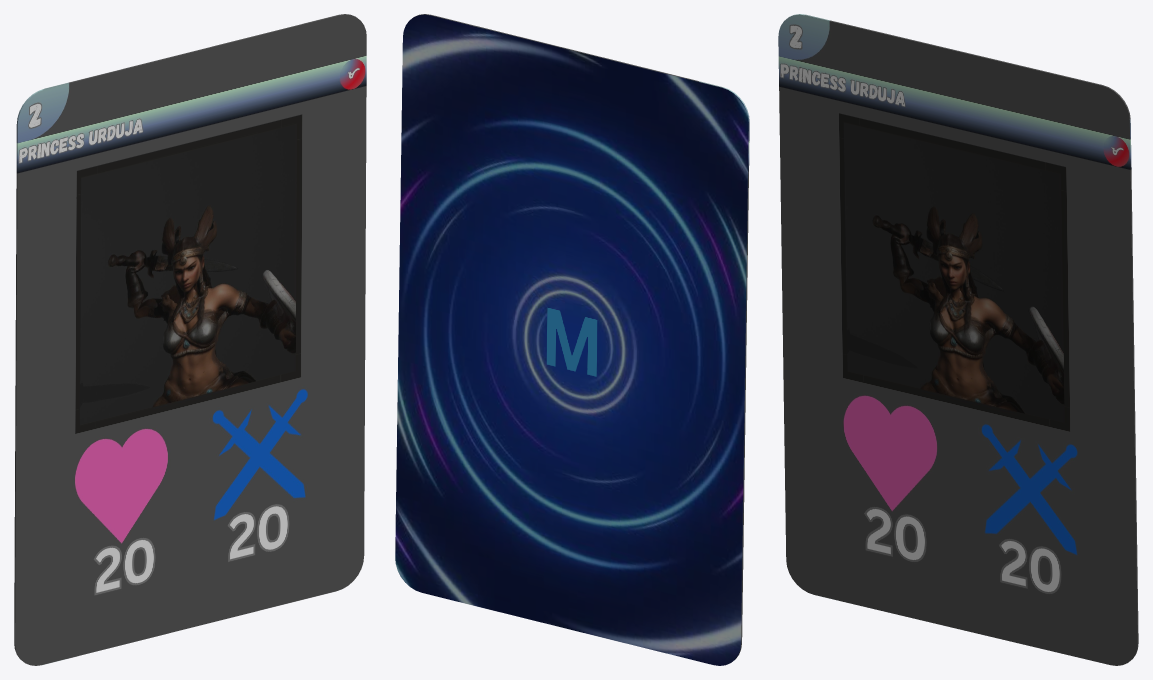
Rendered from Princess Urduja.glb.
3 views of the same model, side by side, from view 1: azimuth 30°, elevation 25°; view 2: azimuth 150°, elevation 25°; view 3: azimuth 330°, elevation 25° (orthographic).
Visible parts, largest first — view 1: Card; view 2: Card; view 3: Card.
Boxes of the visible parts, box(x1,y1,x2,y2) form: Card: box(14, 14, 366, 665); Card: box(395, 14, 749, 665); Card: box(778, 14, 1138, 665).
Size of the model in its own units: 0.0564 by 0.0891 by 0.00197.
Materials: 2 (2 with a texture image).
